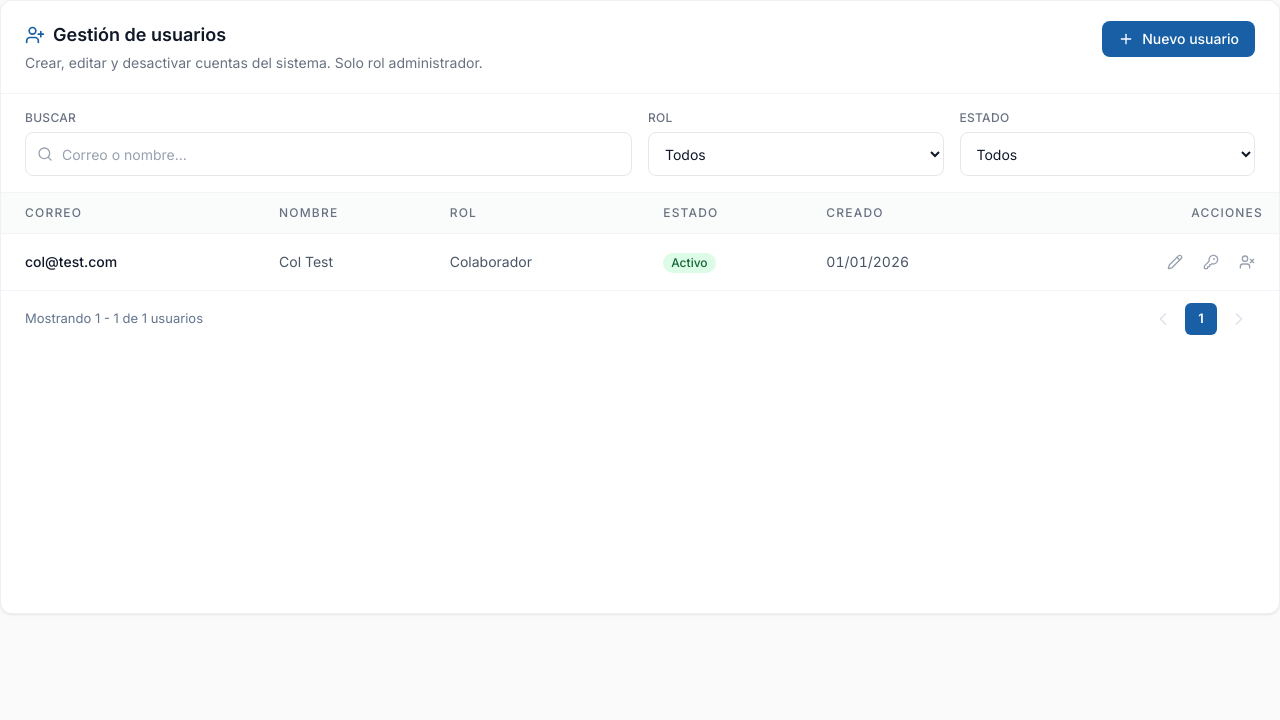
Test case: UsuariosAdminPanel › abre modal de creación
Click the button "Nuevo usuario" at (1179, 39), box [1102,21,1255,57]
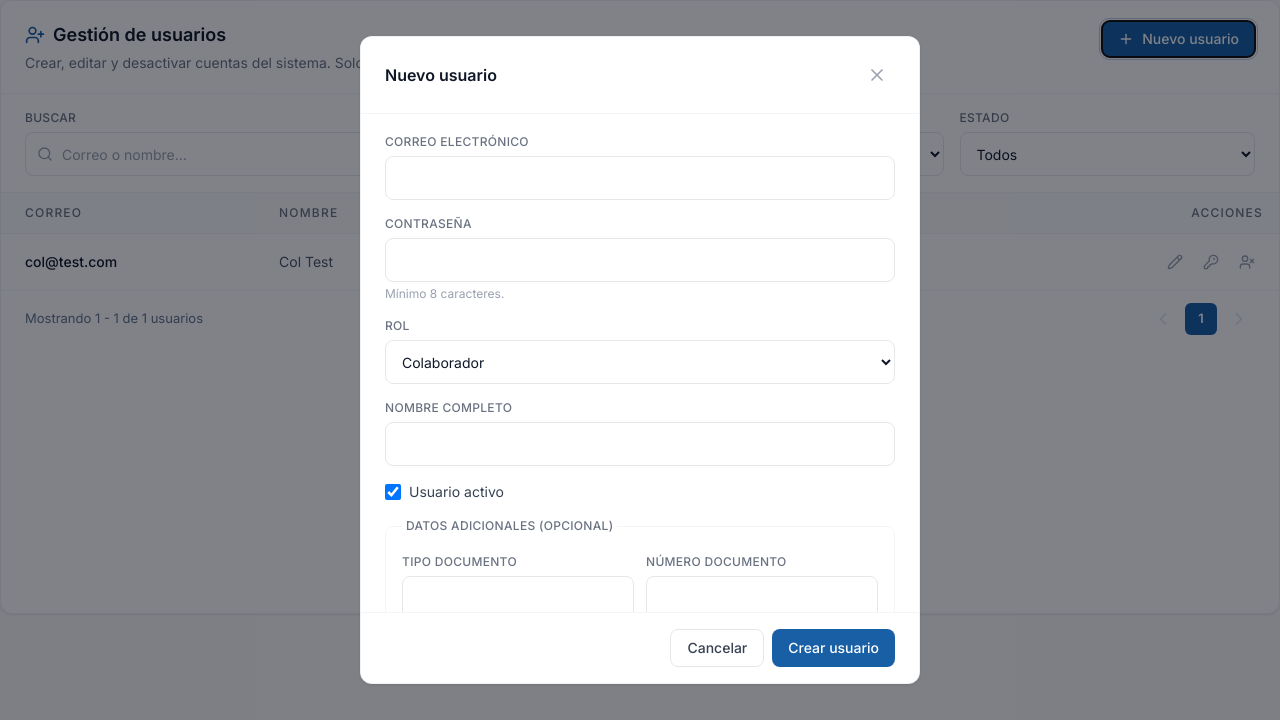
Result: the heading "Nuevo usuario" is shown at [385,63,497,87]
